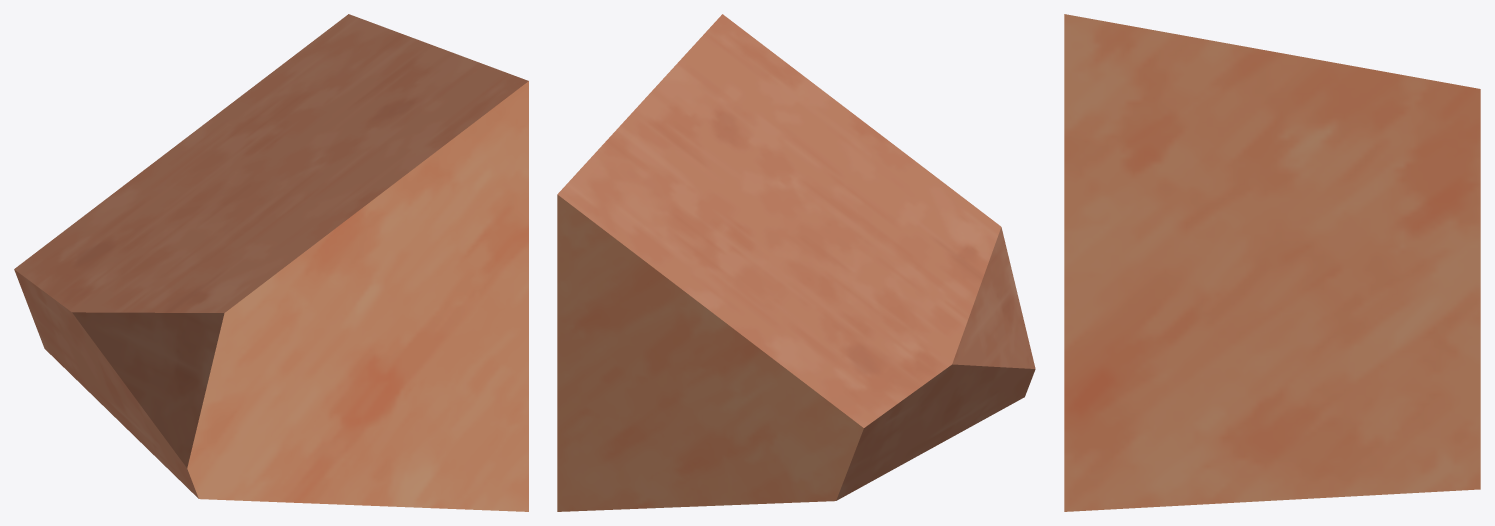
File: townwall_s00.fbx
The picture shows the model from 3 angles, left to right: view 1: azimuth 30°, elevation 25°; view 2: azimuth 150°, elevation 25°; view 3: azimuth 270°, elevation 25°; orthographic projection. The views are drawn at different scales.
Visible parts, largest first — view 1: townwall_s00; view 2: townwall_s00; view 3: townwall_s00.
Part boxes in pixels (x1=…): townwall_s00: x1=14, y1=14, x2=528, y2=511; townwall_s00: x1=557, y1=14, x2=1035, y2=511; townwall_s00: x1=1064, y1=14, x2=1480, y2=511.
Size of the model in its own units: 3.4 by 3.96 by 3.
